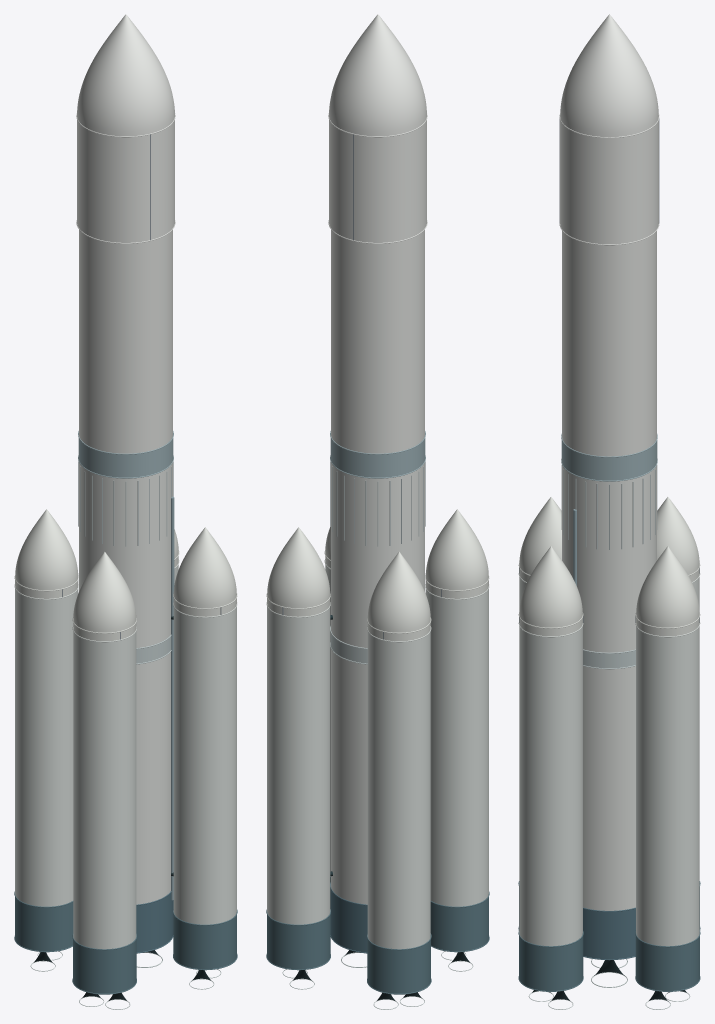
The model's file is long-march-5.glb.
3 renders of one model, left to right at view 1: azimuth 30°, elevation 25°; view 2: azimuth 150°, elevation 25°; view 3: azimuth 270°, elevation 25°, orthographic.
Parts seen in each view (by area): view 1: thin-exterior-shell (×15), ogive-fairing (×4), stage-1, boosters; view 2: thin-exterior-shell (×15), ogive-fairing (×4), boosters, stage-1; view 3: thin-exterior-shell (×12), ogive-fairing (×5), stage-1, boosters, fairing.
Boxes of the visible parts, bbox=[...] form: thin-exterior-shell (×15): bbox=[15, 120, 236, 993]; ogive-fairing (×4): bbox=[15, 14, 236, 632]; stage-1: bbox=[78, 461, 174, 953]; boosters: bbox=[14, 550, 237, 1009]; thin-exterior-shell (×15): bbox=[267, 120, 488, 993]; ogive-fairing (×4): bbox=[267, 14, 488, 632]; boosters: bbox=[266, 550, 489, 1009]; stage-1: bbox=[330, 461, 425, 953]; thin-exterior-shell (×12): bbox=[519, 120, 699, 990]; ogive-fairing (×5): bbox=[519, 14, 699, 627]; stage-1: bbox=[561, 464, 657, 960]; boosters: bbox=[518, 563, 700, 1009]; fairing: bbox=[559, 114, 659, 245].
Size of the model in its own units: 1.35 by 7.85 by 1.35.
